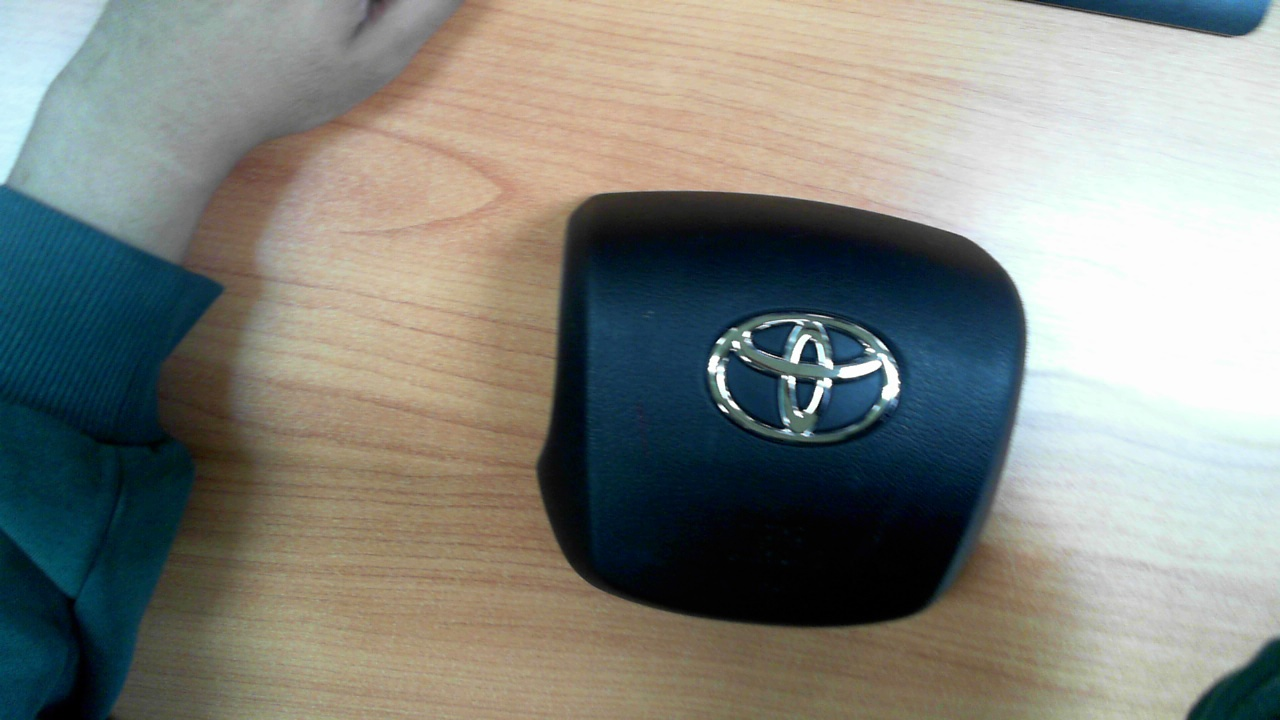Airbag: (536, 188, 1029, 628)
Toyota: (706, 312, 902, 443)
